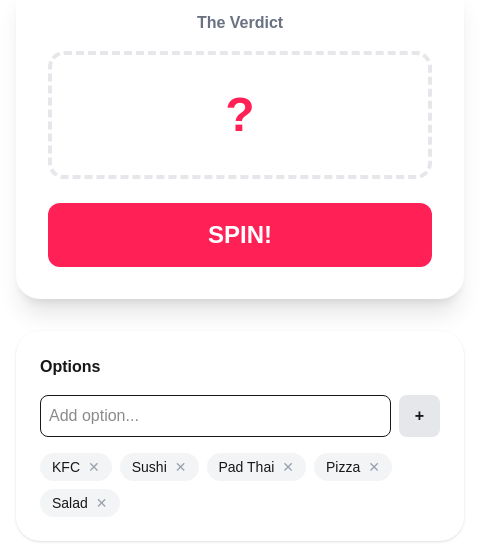
it: Decision Wheel Micro-App › Spinner Component › should spin, cycle choices, and display final result when timers complete
Start spinning
Click the button "SPIN!".
click(240, 235)  # box x1=48 y1=203 x2=432 y2=267
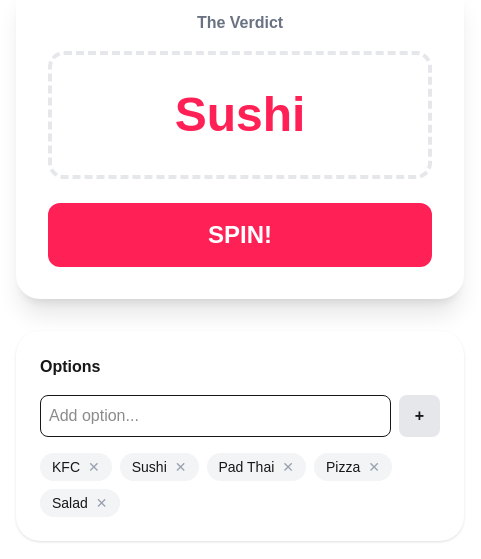
Expected: the heading with class "font-black" reads "Sushi", x1=175 y1=88 x2=305 y2=141
